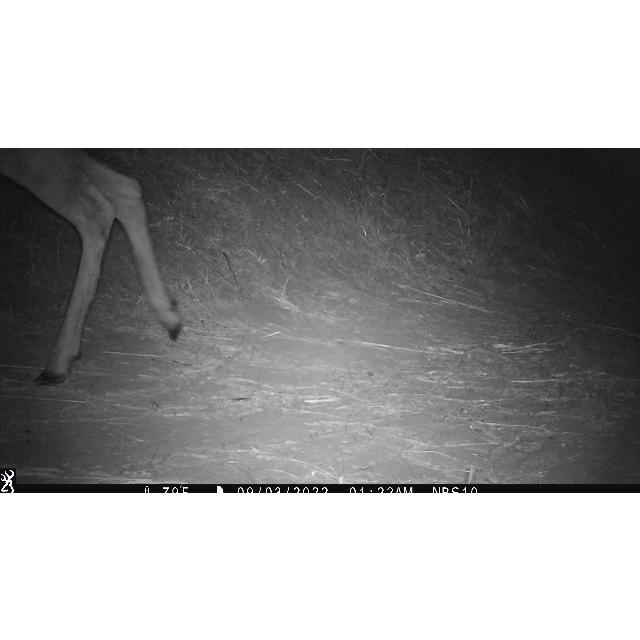animals: (1, 147, 196, 393)
